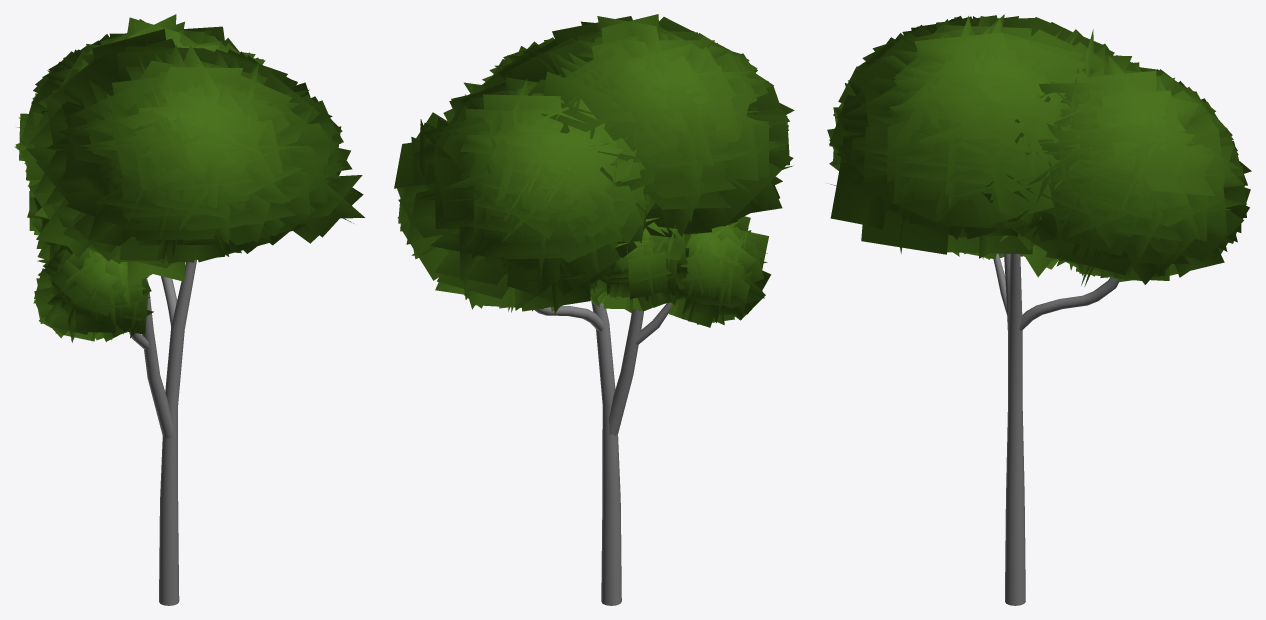
The model's file is SM_tree_tall_02.fbx.
The picture shows the model from 3 angles, left to right: view 1: azimuth 30°, elevation 25°; view 2: azimuth 150°, elevation 25°; view 3: azimuth 270°, elevation 25°; orthographic projection. The views are drawn at different scales.
Visible parts, largest first — view 1: Line179; view 2: Line179; view 3: Line179.
Boxes of the visible parts, x1,y1,x2,y2 form: Line179: (14, 14, 365, 605); Line179: (394, 14, 794, 605); Line179: (827, 14, 1251, 605).
Size of the model in its own units: 158 by 273 by 184.
